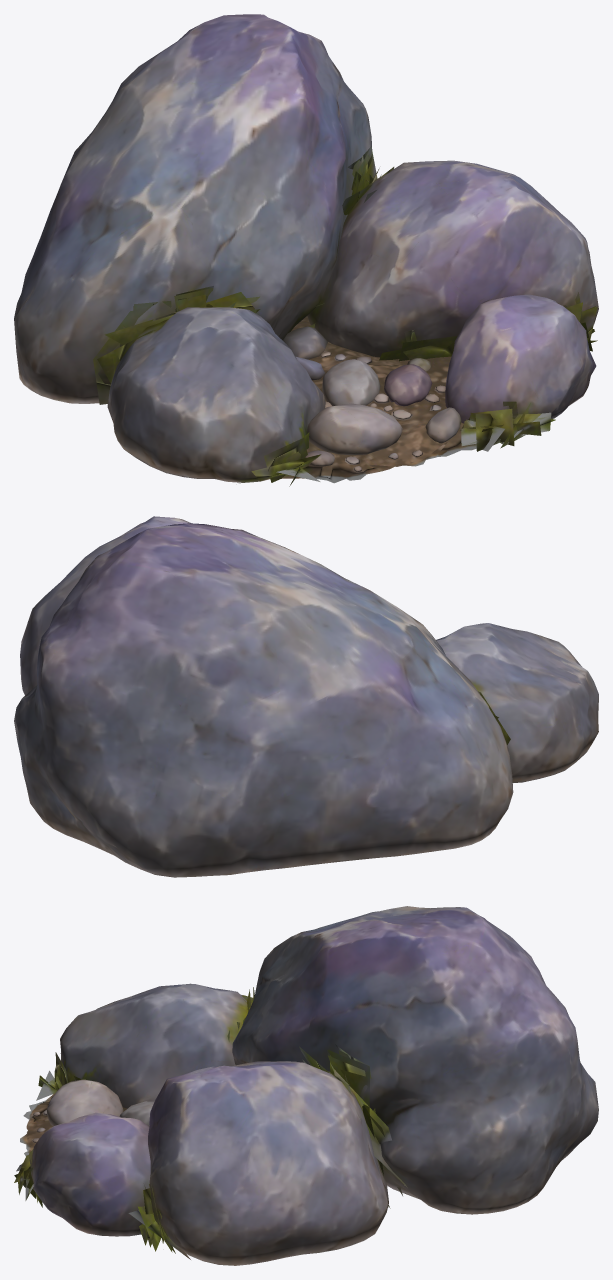
File: pebbles.glb
3 views of the same model, one above another, from view 1: azimuth 30°, elevation 25°; view 2: azimuth 150°, elevation 25°; view 3: azimuth 270°, elevation 25° (orthographic). The views are drawn at different scales.
Visible parts, largest first — view 1: geometry_0; view 2: geometry_0; view 3: geometry_0.
Boxes of the visible parts, x1,y1,x2,y2 form: geometry_0: [14, 14, 598, 486]; geometry_0: [14, 516, 598, 877]; geometry_0: [14, 906, 598, 1265].
Bounding box in the file's own units: 0.8994 × 0.4404 × 0.958.
1 material, 1 textured.
